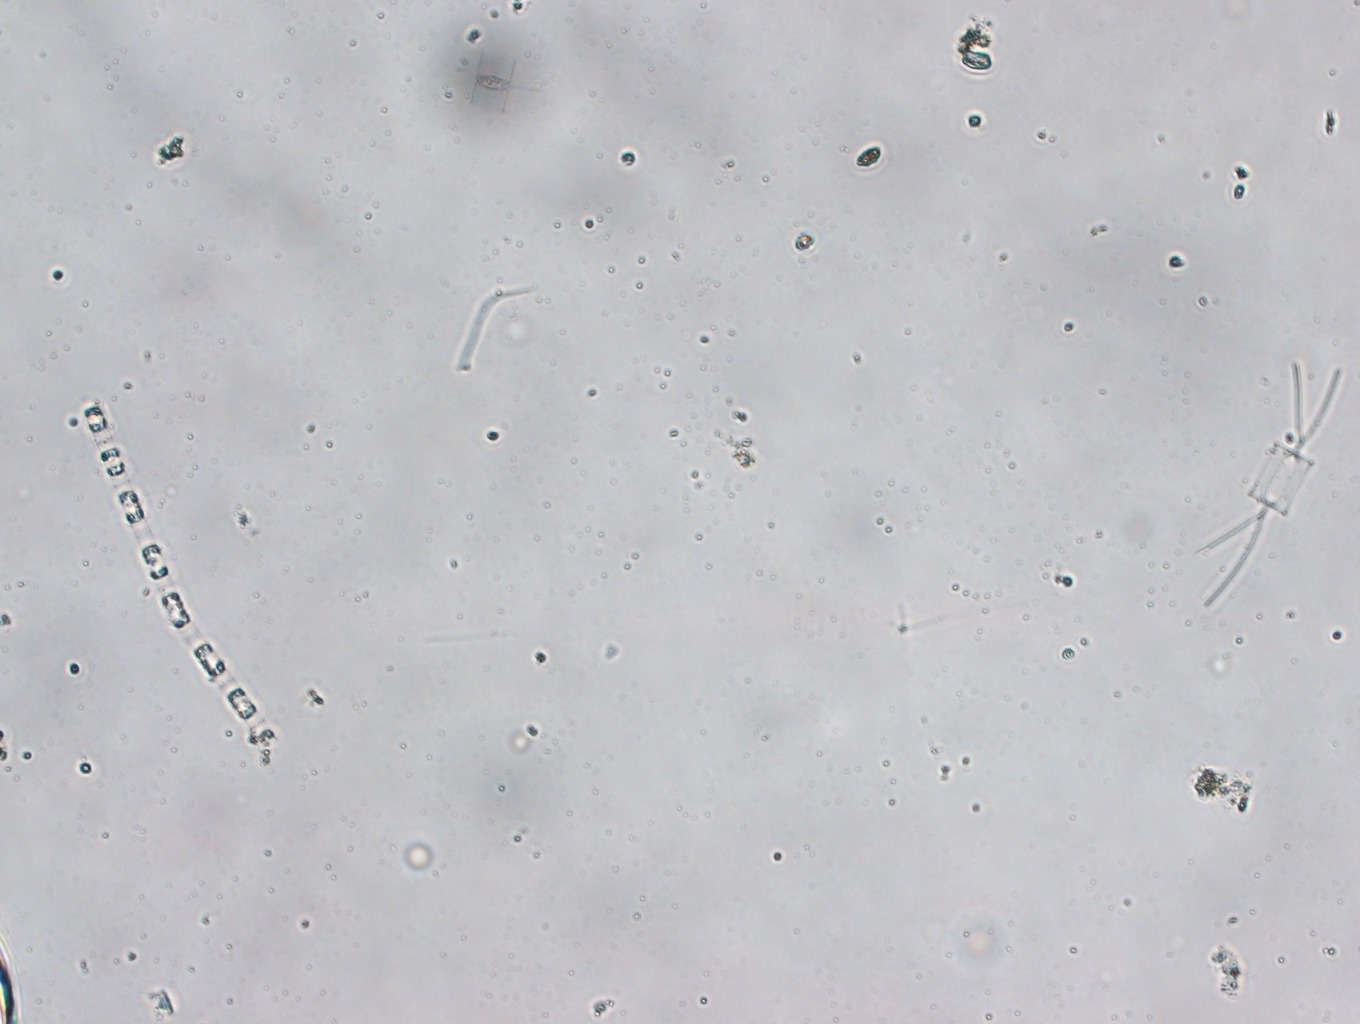chaetoceros: (1196, 362, 1343, 609)
skeletonema: (81, 401, 276, 746)
